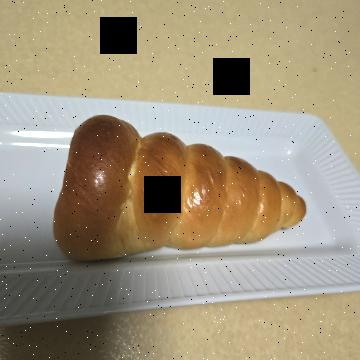cream horn: (95, 44, 263, 324)
